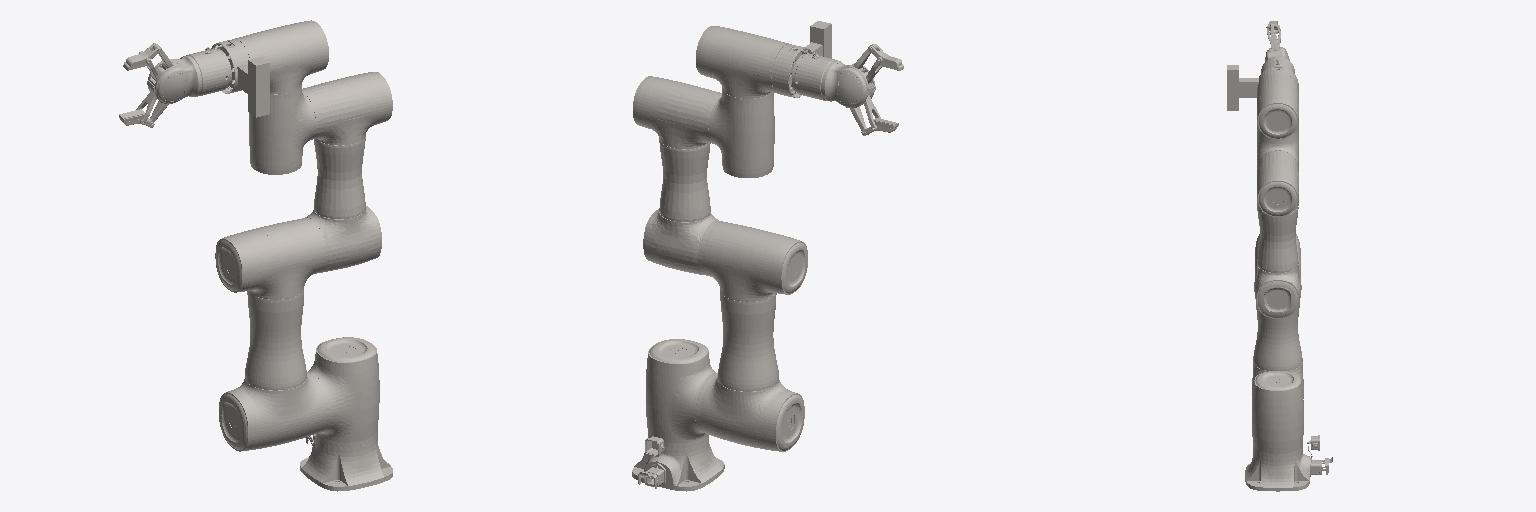
robot.urdf — 更新的夹爪（一半旋转）v1.0.SLDASM:
<?xml version="1.0" encoding="utf-8"?>
<!-- This URDF was automatically created by SolidWorks to URDF Exporter! Originally created by Stephen Brawner (brawner@gmail.com) 
     Commit Version: 1.6.0-4-g7f85cfe  Build Version: 1.6.7995.38578
     For more information, please see http://wiki.ros.org/sw_urdf_exporter -->
<robot
  name="更新的夹爪（一半旋转）v1.0.SLDASM">
  <link
    name="base_link">
    <inertial>
      <origin
        xyz="6.85221855992735E-05 0.00300506541580964 0.0285533608692841"
        rpy="0 0 0" />
      <mass
        value="5.02480920448184" />
      <inertia
        ixx="0.00666958114537919"
        ixy="-4.99608236979039E-07"
        ixz="-1.26835438879039E-06"
        iyy="0.00584115414422138"
        iyz="-8.31079606591726E-05"
        izz="0.00882636424755553" />
    </inertial>
    <visual>
      <origin
        xyz="0 0 0"
        rpy="0 0 0" />
      <geometry>
        <mesh
          filename="package://更新的夹爪（一半旋转）v1.0.SLDASM/meshes/base_link.STL" />
      </geometry>
      <material
        name="">
        <color
          rgba="0.776470588235294 0.756862745098039 0.737254901960784 1" />
      </material>
    </visual>
    <collision>
      <origin
        xyz="0 0 0"
        rpy="0 0 0" />
      <geometry>
        <mesh
          filename="package://更新的夹爪（一半旋转）v1.0.SLDASM/meshes/base_link.STL" />
      </geometry>
    </collision>
  </link>
  <link
    name="Link1">
    <inertial>
      <origin
        xyz="-0.00394441217062119 3.66733676391146E-05 0.0734439501083228"
        rpy="0 0 0" />
      <mass
        value="10.0955987179028" />
      <inertia
        ixx="0.0152525548859726"
        ixy="1.25057032947325E-05"
        ixz="0.00197804972245726"
        iyy="0.0155945953498686"
        iyz="-3.37231918144003E-06"
        izz="0.0141653659346607" />
    </inertial>
    <visual>
      <origin
        xyz="0 0 0"
        rpy="0 0 0" />
      <geometry>
        <mesh
          filename="package://更新的夹爪（一半旋转）v1.0.SLDASM/meshes/Link1.STL" />
      </geometry>
      <material
        name="">
        <color
          rgba="0.776470588235294 0.756862745098039 0.737254901960784 1" />
      </material>
    </visual>
    <collision>
      <origin
        xyz="0 0 0"
        rpy="0 0 0" />
      <geometry>
        <mesh
          filename="package://更新的夹爪（一半旋转）v1.0.SLDASM/meshes/Link1.STL" />
      </geometry>
    </collision>
  </link>
  <joint
    name="J1"
    type="revolute">
    <origin
      xyz="7.69363377688403E-05 0.000302533553753315 0.065"
      rpy="0 0 0" />
    <parent
      link="base_link" />
    <child
      link="Link1" />
    <axis
      xyz="0 0 1" />
    <limit
      lower="0"
      upper="0"
      effort="0"
      velocity="0" />
  </joint>
  <link
    name="Link2">
    <inertial>
      <origin
        xyz="-0.0741752343141683 -1.41282862897163E-05 0.129232505286091"
        rpy="0 0 0" />
      <mass
        value="26.183938269223" />
      <inertia
        ixx="0.0445233520164798"
        ixy="-3.26853219530061E-06"
        ixz="0.000659378810070619"
        iyy="0.0486879884674402"
        iyz="1.23527903399271E-05"
        izz="0.0346935841892653" />
    </inertial>
    <visual>
      <origin
        xyz="0 0 0"
        rpy="0 0 0" />
      <geometry>
        <mesh
          filename="package://更新的夹爪（一半旋转）v1.0.SLDASM/meshes/Link2.STL" />
      </geometry>
      <material
        name="">
        <color
          rgba="0.776470588235294 0.756862745098039 0.737254901960784 1" />
      </material>
    </visual>
    <collision>
      <origin
        xyz="0 0 0"
        rpy="0 0 0" />
      <geometry>
        <mesh
          filename="package://更新的夹爪（一半旋转）v1.0.SLDASM/meshes/Link2.STL" />
      </geometry>
    </collision>
  </link>
  <joint
    name="J2"
    type="revolute">
    <origin
      xyz="-0.0590002707759742 0 0.0697999999587383"
      rpy="0 0 0" />
    <parent
      link="Link1" />
    <child
      link="Link2" />
    <axis
      xyz="-1 0 0" />
    <limit
      lower="0"
      upper="0"
      effort="0"
      velocity="0" />
  </joint>
  <link
    name="Link3">
    <inertial>
      <origin
        xyz="0.0522018200536015 1.21074217053485E-06 0.121124381348978"
        rpy="0 0 0" />
      <mass
        value="16.8666184464014" />
      <inertia
        ixx="0.153033701271701"
        ixy="4.10873147276196E-07"
        ixz="0.00850167925770642"
        iyy="0.156931642965015"
        iyz="9.2648038620683E-07"
        izz="0.0197017576009723" />
    </inertial>
    <visual>
      <origin
        xyz="0 0 0"
        rpy="0 0 0" />
      <geometry>
        <mesh
          filename="package://更新的夹爪（一半旋转）v1.0.SLDASM/meshes/Link3.STL" />
      </geometry>
      <material
        name="">
        <color
          rgba="0.776470588235294 0.756862745098039 0.737254901960784 1" />
      </material>
    </visual>
    <collision>
      <origin
        xyz="0 0 0"
        rpy="0 0 0" />
      <geometry>
        <mesh
          filename="package://更新的夹爪（一半旋转）v1.0.SLDASM/meshes/Link3.STL" />
      </geometry>
    </collision>
  </link>
  <joint
    name="J3"
    type="revolute">
    <origin
      xyz="-0.00360000000000005 0 0.274008212697805"
      rpy="0 0 0" />
    <parent
      link="Link2" />
    <child
      link="Link3" />
    <axis
      xyz="-1 0 0" />
    <limit
      lower="0"
      upper="0"
      effort="0"
      velocity="0" />
  </joint>
  <link
    name="Link4">
    <inertial>
      <origin
        xyz="-0.0461256816722646 1.2653017335551E-06 -0.00345159587811961"
        rpy="0 0 0" />
      <mass
        value="6.48533969016381" />
      <inertia
        ixx="0.00765260336756786"
        ixy="3.17122167215653E-08"
        ixz="0.0010273013637534"
        iyy="0.00772982638107039"
        iyz="2.93392792730973E-08"
        izz="0.00610923547860754" />
    </inertial>
    <visual>
      <origin
        xyz="0 0 0"
        rpy="0 0 0" />
      <geometry>
        <mesh
          filename="package://更新的夹爪（一半旋转）v1.0.SLDASM/meshes/Link4.STL" />
      </geometry>
      <material
        name="">
        <color
          rgba="0.776470588235294 0.756862745098039 0.737254901960784 1" />
      </material>
    </visual>
    <collision>
      <origin
        xyz="0 0 0"
        rpy="0 0 0" />
      <geometry>
        <mesh
          filename="package://更新的夹爪（一半旋转）v1.0.SLDASM/meshes/Link4.STL" />
      </geometry>
    </collision>
  </link>
  <joint
    name="J4"
    type="revolute">
    <origin
      xyz="-0.0167 0 0.229990512799193"
      rpy="0 0 0" />
    <parent
      link="Link3" />
    <child
      link="Link4" />
    <axis
      xyz="1 0 0" />
    <limit
      lower="0"
      upper="0"
      effort="0"
      velocity="0" />
  </joint>
  <link
    name="Link5">
    <inertial>
      <origin
        xyz="0.00333134176644048 -2.03015121158501E-07 0.0461311047575832"
        rpy="0 0 0" />
      <mass
        value="6.49625678183132" />
      <inertia
        ixx="0.00611803261470623"
        ixy="7.28832622509885E-08"
        ixz="0.00103099982540277"
        iyy="0.00776562624263479"
        iyz="1.17356621611127E-08"
        izz="0.00768791051044422" />
    </inertial>
    <visual>
      <origin
        xyz="0 0 0"
        rpy="0 0 0" />
      <geometry>
        <mesh
          filename="package://更新的夹爪（一半旋转）v1.0.SLDASM/meshes/Link5.STL" />
      </geometry>
      <material
        name="">
        <color
          rgba="0.776470588235294 0.756862745098039 0.737254901960784 1" />
      </material>
    </visual>
    <collision>
      <origin
        xyz="0 0 0"
        rpy="0 0 0" />
      <geometry>
        <mesh
          filename="package://更新的夹爪（一半旋转）v1.0.SLDASM/meshes/Link5.STL" />
      </geometry>
    </collision>
  </link>
  <joint
    name="J5"
    type="revolute">
    <origin
      xyz="-0.0489999380118297 0 0.0670000620559024"
      rpy="0 0 0" />
    <parent
      link="Link4" />
    <child
      link="Link5" />
    <axis
      xyz="0 0 -1" />
    <limit
      lower="0"
      upper="0"
      effort="0"
      velocity="0" />
  </joint>
  <link
    name="Link6">
    <inertial>
      <origin
        xyz="-0.01535 -0.0796253333193645 4.44089209850063E-16"
        rpy="0 0 0" />
      <mass
        value="0.634071594787973" />
      <inertia
        ixx="0.000492679192291505"
        ixy="-2.05840727175592E-20"
        ixz="2.65696564224512E-19"
        iyy="0.000342700673028841"
        iyz="-5.30783522277243E-20"
        izz="0.000208492146415191" />
    </inertial>
    <visual>
      <origin
        xyz="0 0 0"
        rpy="0 0 0" />
      <geometry>
        <mesh
          filename="package://更新的夹爪（一半旋转）v1.0.SLDASM/meshes/Link6.STL" />
      </geometry>
      <material
        name="">
        <color
          rgba="0.776470588235294 0.756862745098039 0.737254901960784 1" />
      </material>
    </visual>
    <collision>
      <origin
        xyz="0 0 0"
        rpy="0 0 0" />
      <geometry>
        <mesh
          filename="package://更新的夹爪（一半旋转）v1.0.SLDASM/meshes/Link6.STL" />
      </geometry>
    </collision>
  </link>
  <joint
    name="J6"
    type="revolute">
    <origin
      xyz="-0.0673000619881703 0 0.0488012124883614"
      rpy="0 0 0" />
    <parent
      link="Link5" />
    <child
      link="Link6" />
    <axis
      xyz="1 0 0" />
    <limit
      lower="0"
      upper="0"
      effort="0"
      velocity="0" />
  </joint>
  <link
    name="gripper_base">
    <inertial>
      <origin
        xyz="-0.0525124309036244 8.31787860905153E-05 0.000179501010934002"
        rpy="0 0 0" />
      <mass
        value="0.717637530126163" />
      <inertia
        ixx="0.000410461450405349"
        ixy="1.97326433273756E-08"
        ixz="1.19750041484873E-08"
        iyy="0.000517064315615614"
        iyz="1.87522500739624E-05"
        izz="0.000402393983724621" />
    </inertial>
    <visual>
      <origin
        xyz="0 0 0"
        rpy="0 0 0" />
      <geometry>
        <mesh
          filename="package://更新的夹爪（一半旋转）v1.0.SLDASM/meshes/gripper_base.STL" />
      </geometry>
      <material
        name="">
        <color
          rgba="0.776470588235294 0.756862745098039 0.737254901960784 1" />
      </material>
    </visual>
    <collision>
      <origin
        xyz="0 0 0"
        rpy="0 0 0" />
      <geometry>
        <mesh
          filename="package://更新的夹爪（一半旋转）v1.0.SLDASM/meshes/gripper_base.STL" />
      </geometry>
    </collision>
  </link>
  <joint
    name="gripper_joint"
    type="fixed">
    <origin
      xyz="-0.04770344 -1.42449850634441E-05 8.99392959963219E-05"
      rpy="0 0 0" />
    <parent
      link="Link6" />
    <child
      link="gripper_base" />
    <axis
      xyz="0 0 0" />
  </joint>
  <link
    name="Left_Link1">
    <inertial>
      <origin
        xyz="-0.00700744244341194 -0.00901059701971539 0.00739791864736694"
        rpy="0 0 0" />
      <mass
        value="0.0844595654791462" />
      <inertia
        ixx="2.86688689237154E-05"
        ixy="-1.35297273822972E-06"
        ixz="6.91694077395783E-06"
        iyy="3.1807603382932E-05"
        iyz="1.61385622521548E-06"
        izz="8.30229692190674E-06" />
    </inertial>
    <visual>
      <origin
        xyz="0 0 0"
        rpy="0 0 0" />
      <geometry>
        <mesh
          filename="package://更新的夹爪（一半旋转）v1.0.SLDASM/meshes/Left_Link1.STL" />
      </geometry>
      <material
        name="">
        <color
          rgba="0.776470588235294 0.756862745098039 0.737254901960784 1" />
      </material>
    </visual>
    <collision>
      <origin
        xyz="0 0 0"
        rpy="0 0 0" />
      <geometry>
        <mesh
          filename="package://更新的夹爪（一半旋转）v1.0.SLDASM/meshes/Left_Link1.STL" />
      </geometry>
    </collision>
  </link>
  <joint
    name="Left_joint1"
    type="revolute">
    <origin
      xyz="-0.08189656 0.00272089524104584 0.0256503801346519"
      rpy="0 0 0" />
    <parent
      link="gripper_base" />
    <child
      link="Left_Link1" />
    <axis
      xyz="0 -0.987688340595142 -0.156434465040207" />
    <limit
      lower="0"
      upper="0"
      effort="0"
      velocity="0" />
  </joint>
  <link
    name="Left_static1">
    <inertial>
      <origin
        xyz="-0.026731787041842 0.00222482362911726 -0.0141391118843792"
        rpy="0 0 0" />
      <mass
        value="0.081798281899798" />
      <inertia
        ixx="3.57744923705614E-06"
        ixy="4.51657275362611E-07"
        ixz="-2.85152633127374E-06"
        iyy="1.63816116901597E-05"
        iyz="-1.04570702451501E-07"
        izz="1.70253725758472E-05" />
    </inertial>
    <visual>
      <origin
        xyz="0 0 0"
        rpy="0 0 0" />
      <geometry>
        <mesh
          filename="package://更新的夹爪（一半旋转）v1.0.SLDASM/meshes/Left_static1.STL" />
      </geometry>
      <material
        name="">
        <color
          rgba="0.776470588235294 0.756862745098039 0.737254901960784 1" />
      </material>
    </visual>
    <collision>
      <origin
        xyz="0 0 0"
        rpy="0 0 0" />
      <geometry>
        <mesh
          filename="package://更新的夹爪（一半旋转）v1.0.SLDASM/meshes/Left_static1.STL" />
      </geometry>
    </collision>
  </link>
  <joint
    name="Left_static1_joint"
    type="revolute">
    <origin
      xyz="-0.02693137046528 -0.0137583661684634 0.0440374686515492"
      rpy="0 0 0" />
    <parent
      link="Left_Link1" />
    <child
      link="Left_static1" />
    <axis
      xyz="0 -0.987688340595141 -0.15643446504021" />
    <limit
      lower="0"
      upper="0"
      effort="0"
      velocity="0" />
  </joint>
  <link
    name="Left_link2">
    <inertial>
      <origin
        xyz="-0.0107299717053558 -0.00946276361594048 0.0169167177045149"
        rpy="0 0 0" />
      <mass
        value="0.0467786175659675" />
      <inertia
        ixx="1.20747497911926E-05"
        ixy="-8.4371999422975E-07"
        ixz="5.32747540424146E-06"
        iyy="1.2584581043282E-05"
        iyz="1.0243057315103E-06"
        izz="6.2788629854597E-06" />
    </inertial>
    <visual>
      <origin
        xyz="0 0 0"
        rpy="0 0 0" />
      <geometry>
        <mesh
          filename="package://更新的夹爪（一半旋转）v1.0.SLDASM/meshes/Left_link2.STL" />
      </geometry>
      <material
        name="">
        <color
          rgba="0.776470588235294 0.756862745098039 0.737254901960784 1" />
      </material>
    </visual>
    <collision>
      <origin
        xyz="0 0 0"
        rpy="0 0 0" />
      <geometry>
        <mesh
          filename="package://更新的夹爪（一半旋转）v1.0.SLDASM/meshes/Left_link2.STL" />
      </geometry>
    </collision>
  </link>
  <joint
    name="Left_joint2"
    type="revolute">
    <origin
      xyz="-0.10189656 0.00483276051908862 0.0123165875366174"
      rpy="0 0 0" />
    <parent
      link="gripper_base" />
    <child
      link="Left_link2" />
    <axis
      xyz="0 -0.987688340595141 -0.156434465040208" />
    <limit
      lower="0"
      upper="0"
      effort="0"
      velocity="0" />
  </joint>
  <link
    name="Right_Link1">
    <inertial>
      <origin
        xyz="-0.00700744244340618 -0.00422442674425921 -0.0094941404789084"
        rpy="0 0 0" />
      <mass
        value="0.0844595654791463" />
      <inertia
        ixx="2.86688689237734E-05"
        ixy="1.35297273822333E-06"
        ixz="-6.91694077391052E-06"
        iyy="3.18076033829438E-05"
        iyz="1.61385622522479E-06"
        izz="8.30229692186397E-06" />
    </inertial>
    <visual>
      <origin
        xyz="0 0 0"
        rpy="0 0 0" />
      <geometry>
        <mesh
          filename="package://更新的夹爪（一半旋转）v1.0.SLDASM/meshes/Right_Link1.STL" />
      </geometry>
      <material
        name="">
        <color
          rgba="0.776470588235294 0.756862745098039 0.737254901960784 1" />
      </material>
    </visual>
    <collision>
      <origin
        xyz="0 0 0"
        rpy="0 0 0" />
      <geometry>
        <mesh
          filename="package://更新的夹爪（一半旋转）v1.0.SLDASM/meshes/Right_Link1.STL" />
      </geometry>
    </collision>
  </link>
  <joint
    name="Right_joint"
    type="revolute">
    <origin
      xyz="-0.08189655999999 0.0105426184930593 -0.0237340368951251"
      rpy="0 0 0" />
    <parent
      link="gripper_base" />
    <child
      link="Right_Link1" />
    <axis
      xyz="0 -0.987688340595141 -0.156434465040209" />
    <limit
      lower="0"
      upper="0"
      effort="0"
      velocity="0" />
  </joint>
  <link
    name="Right_static1">
    <inertial>
      <origin
        xyz="-0.0267318191217411 -0.00222483250951787 0.0141391107295132"
        rpy="0 0 0" />
      <mass
        value="0.0817982814192898" />
      <inertia
        ixx="3.5774491641234E-06"
        ixy="-4.51656756741569E-07"
        ixz="2.85152313504305E-06"
        iyy="1.63816118671217E-05"
        iyz="-1.04571357072515E-07"
        izz="1.70253723717153E-05" />
    </inertial>
    <visual>
      <origin
        xyz="0 0 0"
        rpy="0 0 0" />
      <geometry>
        <mesh
          filename="package://更新的夹爪（一半旋转）v1.0.SLDASM/meshes/Right_static1.STL" />
      </geometry>
      <material
        name="">
        <color
          rgba="0.776470588235294 0.756862745098039 0.737254901960784 1" />
      </material>
    </visual>
    <collision>
      <origin
        xyz="0 0 0"
        rpy="0 0 0" />
      <geometry>
        <mesh
          filename="package://更新的夹爪（一半旋转）v1.0.SLDASM/meshes/Right_static1.STL" />
      </geometry>
    </collision>
  </link>
  <joint
    name="Right_static1_joint"
    type="revolute">
    <origin
      xyz="-0.02693137046529 0.000523342404485386 -0.0461336904830683"
      rpy="0 0 0" />
    <parent
      link="Right_Link1" />
    <child
      link="Right_static1" />
    <axis
      xyz="0 0.987688340595141 0.15643446504021" />
    <limit
      lower="0"
      upper="0"
      effort="0"
      velocity="0" />
  </joint>
  <link
    name="Right_Link2">
    <inertial>
      <origin
        xyz="-0.0107299717053571 -0.00377226014803451 -0.0190129395360521"
        rpy="0 0 0" />
      <mass
        value="0.0467786175659648" />
      <inertia
        ixx="1.20747497911908E-05"
        ixy="8.43719994229793E-07"
        ixz="-5.32747540424156E-06"
        iyy="1.25845810432811E-05"
        iyz="1.02430573151009E-06"
        izz="6.27886298546018E-06" />
    </inertial>
    <visual>
      <origin
        xyz="0 0 0"
        rpy="0 0 0" />
      <geometry>
        <mesh
          filename="package://更新的夹爪（一半旋转）v1.0.SLDASM/meshes/Right_Link2.STL" />
      </geometry>
      <material
        name="">
        <color
          rgba="0.776470588235294 0.756862745098039 0.737254901960784 1" />
      </material>
    </visual>
    <collision>
      <origin
        xyz="0 0 0"
        rpy="0 0 0" />
      <geometry>
        <mesh
          filename="package://更新的夹爪（一半旋转）v1.0.SLDASM/meshes/Right_Link2.STL" />
      </geometry>
    </collision>
  </link>
  <joint
    name="Right_joint2"
    type="revolute">
    <origin
      xyz="-0.10189656 0.00843075321501338 -0.0104002442970708"
      rpy="0 0 0" />
    <parent
      link="gripper_base" />
    <child
      link="Right_Link2" />
    <axis
      xyz="0 -0.987688340595141 -0.156434465040211" />
    <limit
      lower="0"
      upper="0"
      effort="0"
      velocity="0" />
  </joint>
</robot>

--- What the picture shows (computed from the rendered views, not written in the file) ---
The picture shows the robot from 3 angles, left to right: view 1: azimuth 30°, elevation 25°; view 2: azimuth 150°, elevation 25°; view 3: azimuth 270°, elevation 25°; orthographic projection.
Robot: 更新的夹爪（一半旋转）v1.0.SLDASM — 14 links, 13 joints (12 revolute, 1 fixed); root link base_link; default pose: every joint at zero.
Links seen in each view (by area): view 1: Link2, Link3, Link1, Link4, Link5, base_link, gripper_base, Link6; view 2: Link2, Link3, Link1, Link4, Link5, base_link, gripper_base, Link6; view 3: Link3, Link1, Link2, base_link, Link5, Link6, Link4.
Link boxes in pixels (x1,y1,x2,y2): Link2: (215, 217, 329, 451); Link3: (302, 72, 392, 272); Link1: (308, 337, 379, 447); Link4: (249, 86, 315, 174); Link5: (235, 20, 328, 93); base_link: (300, 434, 392, 491); gripper_base: (147, 47, 228, 103); Link6: (211, 39, 269, 117); Link2: (695, 221, 807, 451); Link3: (633, 76, 721, 274); Link1: (646, 339, 715, 447); Link4: (709, 89, 774, 177); Link5: (696, 26, 788, 98); base_link: (632, 436, 724, 491); gripper_base: (795, 52, 875, 107); Link6: (772, 21, 831, 97); Link3: (1254, 150, 1301, 318); Link1: (1252, 371, 1303, 457); Link2: (1252, 234, 1303, 398); base_link: (1245, 435, 1332, 491); Link5: (1257, 73, 1298, 138); Link6: (1227, 65, 1298, 110); Link4: (1257, 129, 1298, 167).
Bounding box of the posed robot: 0.4716 × 0.2123 × 0.8299 m (x, y, z).
Meshes: 14 distinct files referenced, 14 mesh visuals loaded (14 binary STL).
